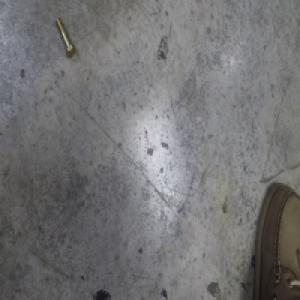Bolt: (55, 15, 76, 60)
